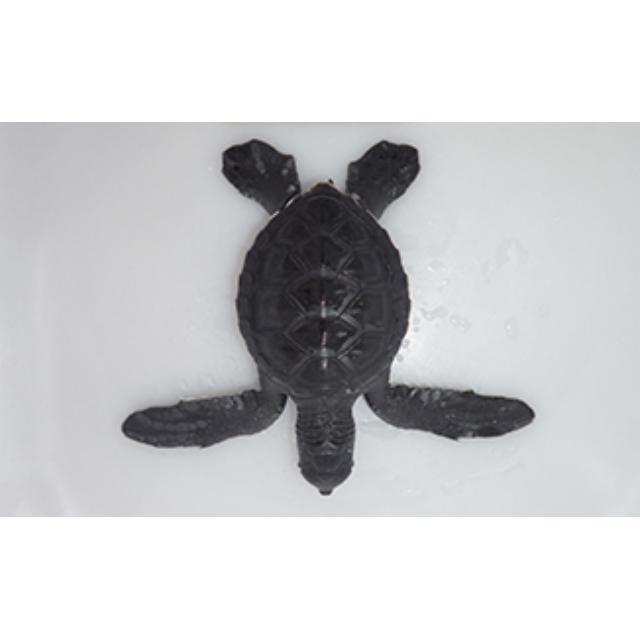turtle: (118, 136, 535, 500)
